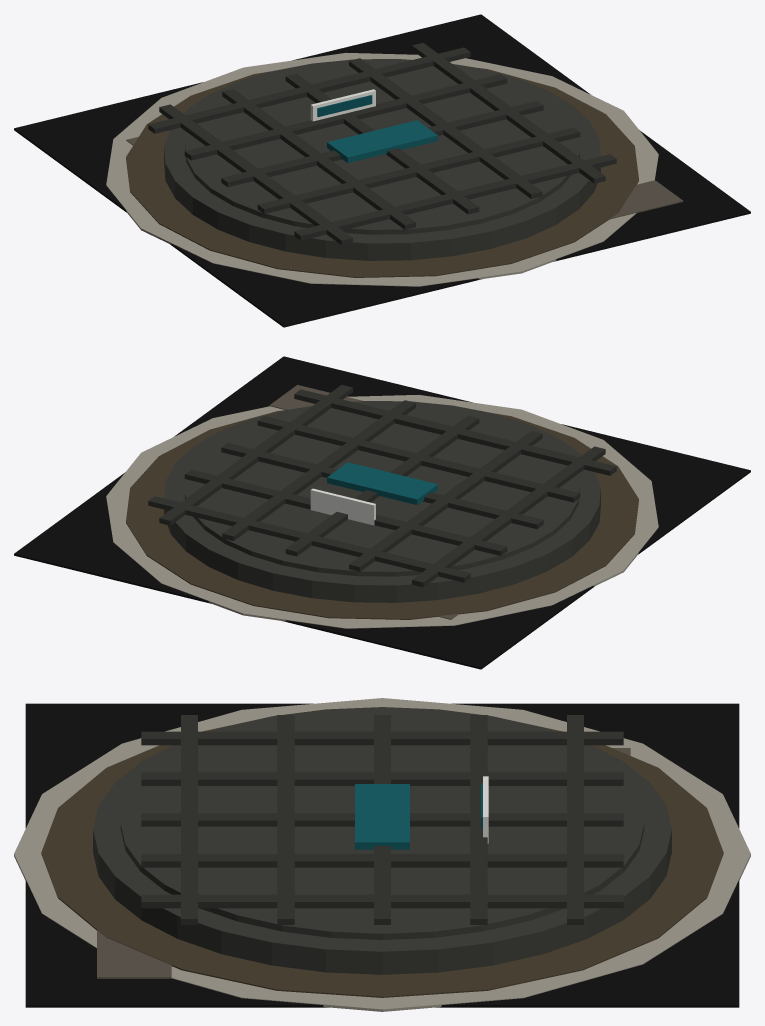
Rendered from hm_prop_manhole_v2.obj.
The picture shows the model from 3 angles, top to bottom: view 1: azimuth 30°, elevation 25°; view 2: azimuth 150°, elevation 25°; view 3: azimuth 270°, elevation 25°; orthographic projection. The views are drawn at different scales.
Visible parts, largest first — view 1: MH_Cover, hm_prop_manhole_v2_Shadow, hm_prop_manhole_v2_Dirt, MH_Ring, hm_prop_manhole_v2_SaltRing, MH_BarX_1, MH_BarX_4, MH_BarX_0, MH_BarX_3, MH_BarY_0, MH_BarY_3, MH_BarY_1 (+7 smaller); view 2: MH_Cover, hm_prop_manhole_v2_Shadow, hm_prop_manhole_v2_Dirt, MH_Ring, hm_prop_manhole_v2_SaltRing, MH_BarX_1, MH_BarX_0, MH_BarX_4, MH_BarY_0, MH_BarY_3, MH_BarY_1, MH_BarX_3 (+6 smaller); view 3: MH_Cover, hm_prop_manhole_v2_Shadow, hm_prop_manhole_v2_Dirt, MH_Ring, hm_prop_manhole_v2_SaltRing, MH_BarY_4, MH_BarY_0, MH_BarY_1, MH_BarY_3, MH_BarY_2, MH_Plate, MH_BarX_1 (+5 smaller).
Boxes of the visible parts, bbox=[...] form: MH_Cover: bbox=[185, 63, 579, 234]; hm_prop_manhole_v2_Shadow: bbox=[14, 14, 750, 327]; hm_prop_manhole_v2_Dirt: bbox=[126, 68, 638, 277]; MH_Ring: bbox=[164, 59, 600, 260]; hm_prop_manhole_v2_SaltRing: bbox=[106, 52, 658, 286]; MH_BarX_1: bbox=[257, 127, 580, 213]; MH_BarX_4: bbox=[148, 47, 470, 133]; MH_BarX_0: bbox=[294, 154, 616, 240]; MH_BarX_3: bbox=[184, 74, 507, 160]; MH_BarY_0: bbox=[159, 104, 352, 245]; MH_BarY_3: bbox=[349, 58, 542, 198]; MH_BarY_1: bbox=[222, 89, 415, 229]; MH_Cover: bbox=[185, 405, 579, 576]; hm_prop_manhole_v2_Shadow: bbox=[14, 356, 750, 669]; hm_prop_manhole_v2_Dirt: bbox=[126, 410, 638, 619]; MH_Ring: bbox=[164, 401, 600, 602]; hm_prop_manhole_v2_SaltRing: bbox=[106, 394, 658, 628]; MH_BarX_1: bbox=[257, 416, 580, 502]; MH_BarX_0: bbox=[294, 389, 616, 475]; MH_BarX_4: bbox=[148, 496, 470, 582]; MH_BarY_0: bbox=[412, 446, 605, 587]; MH_BarY_3: bbox=[222, 400, 415, 540]; MH_BarY_1: bbox=[349, 431, 542, 571]; MH_BarX_3: bbox=[184, 469, 507, 555]; MH_Cover: bbox=[120, 712, 644, 939]; hm_prop_manhole_v2_Shadow: bbox=[25, 703, 739, 1007]; hm_prop_manhole_v2_Dirt: bbox=[41, 715, 723, 997]; MH_Ring: bbox=[93, 707, 671, 974]; hm_prop_manhole_v2_SaltRing: bbox=[14, 698, 750, 1011]; MH_BarY_4: bbox=[141, 894, 623, 908]; MH_BarY_0: bbox=[141, 731, 623, 745]; MH_BarY_1: bbox=[141, 772, 623, 785]; MH_BarY_3: bbox=[141, 854, 623, 867]; MH_BarY_2: bbox=[141, 813, 623, 826]; MH_Plate: bbox=[355, 784, 409, 849]; MH_BarX_1: bbox=[277, 715, 294, 924].
Size of the model in its own units: 1.07 by 0.0965 by 1.07.
